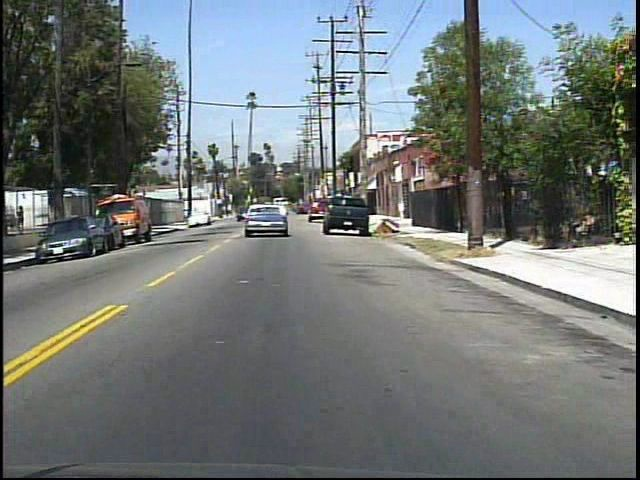person: (18, 203, 29, 235)
